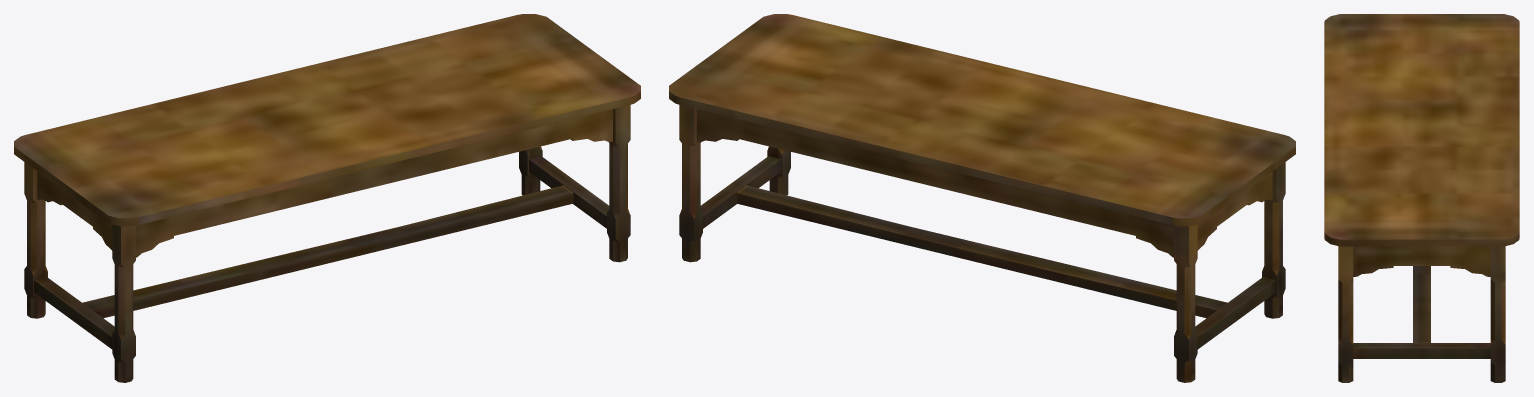
3 renders of one model, left to right at view 1: azimuth 30°, elevation 25°; view 2: azimuth 150°, elevation 25°; view 3: azimuth 270°, elevation 25°, orthographic. The views are drawn at different scales.
Visible parts, largest first — view 1: WoodenTable_01; view 2: WoodenTable_01; view 3: WoodenTable_01.
Boxes of the visible parts, x1,y1,x2,y2 form: WoodenTable_01: [14, 14, 640, 382]; WoodenTable_01: [669, 14, 1295, 382]; WoodenTable_01: [1324, 14, 1519, 382].
Bounding box in the file's own units: 1.79 × 0.5488 × 0.6572.
Materials: 1 (1 with a texture image).
